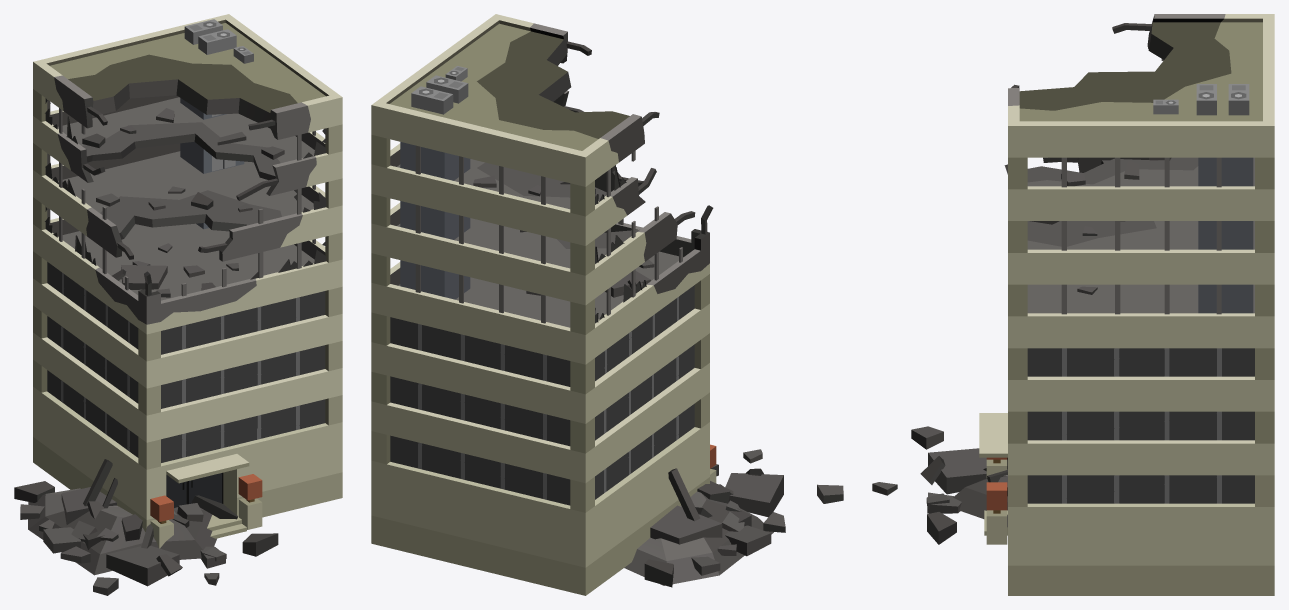
Rendered from SA_Bld_Office_Damaged_01.glb.
3 renders of one model, left to right at view 1: azimuth 30°, elevation 25°; view 2: azimuth 150°, elevation 25°; view 3: azimuth 270°, elevation 25°, orthographic. The views are drawn at different scales.
Parts seen in each view (by area): view 1: SA_Bld_Office_Damaged_01; view 2: SA_Bld_Office_Damaged_01; view 3: SA_Bld_Office_Damaged_01.
Boxes of the visible parts, x1,y1,x2,y2 form: SA_Bld_Office_Damaged_01: (14,14,342,595); SA_Bld_Office_Damaged_01: (371,14,843,595); SA_Bld_Office_Damaged_01: (872,14,1274,595).
Bounding box in the file's own units: 8.29 × 11.83 × 8.68.
1 material, 1 textured.
